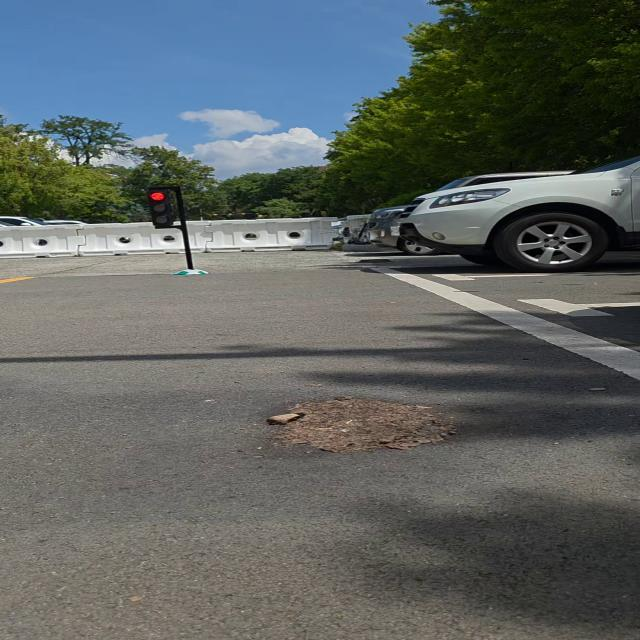red: (144, 190, 183, 228)
